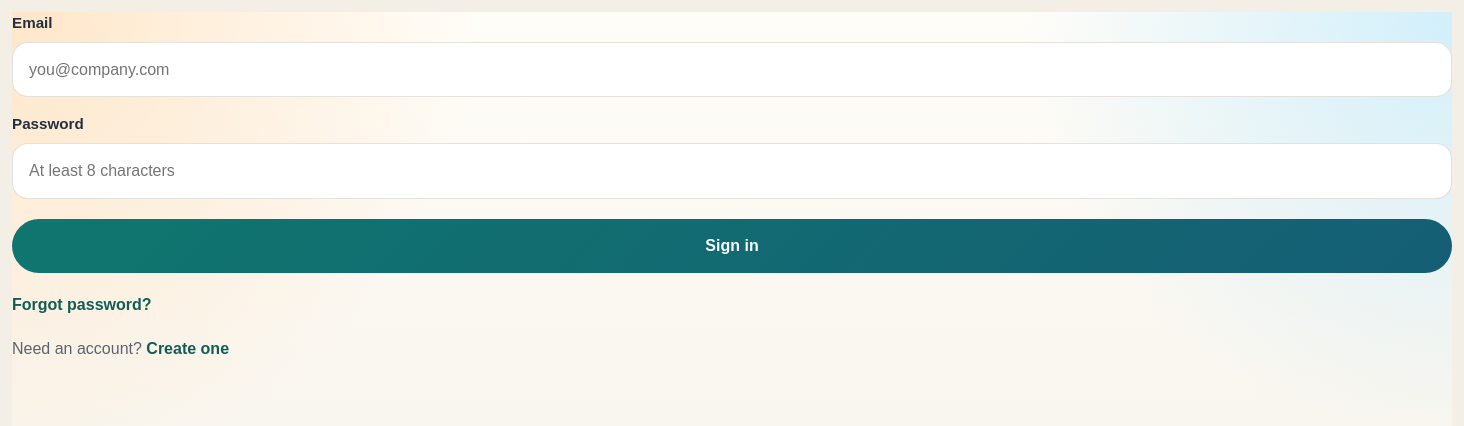
LoginForm › validates that password is required
Type "ada@example.com" into the field labelled "Email" at (732,70), box left=12, top=42, right=1452, bottom=97
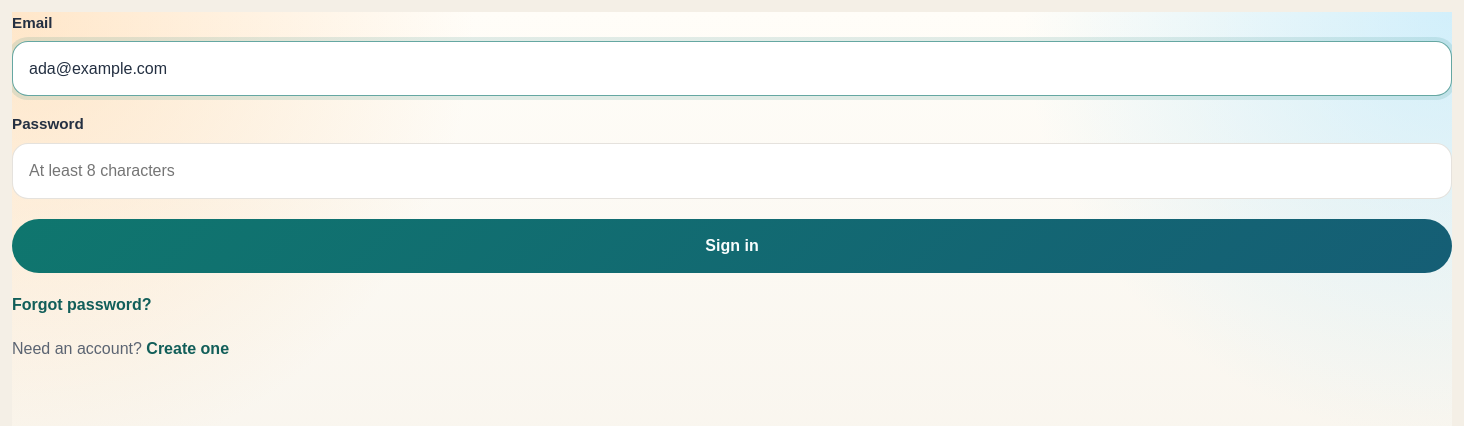
Click the button "Sign in" at (732,246), box left=12, top=219, right=1452, bottom=273
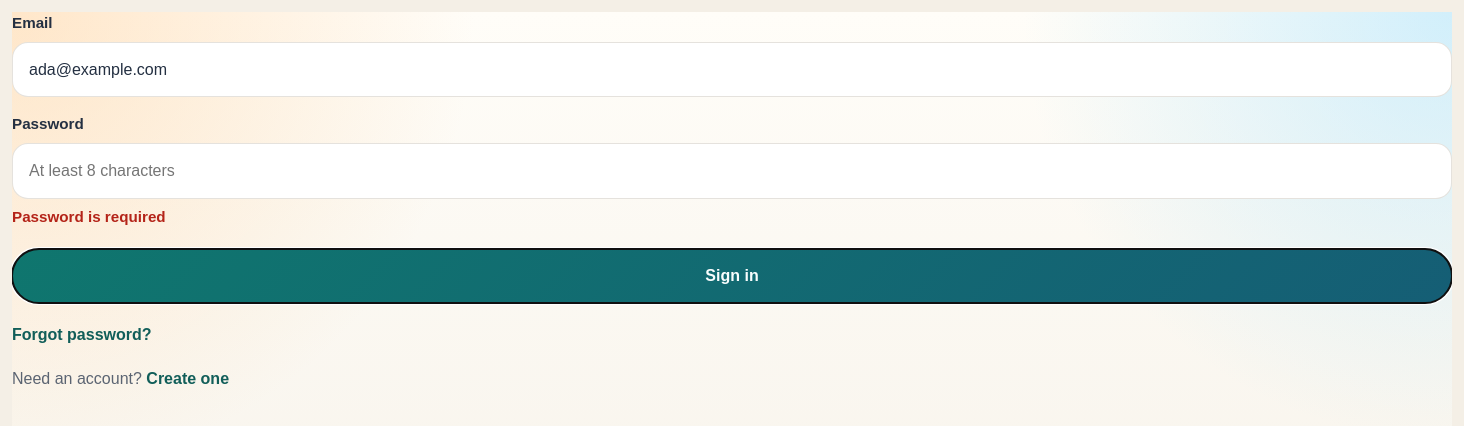
Expected: the text "Password is required" is shown, left=12, top=208, right=166, bottom=225
